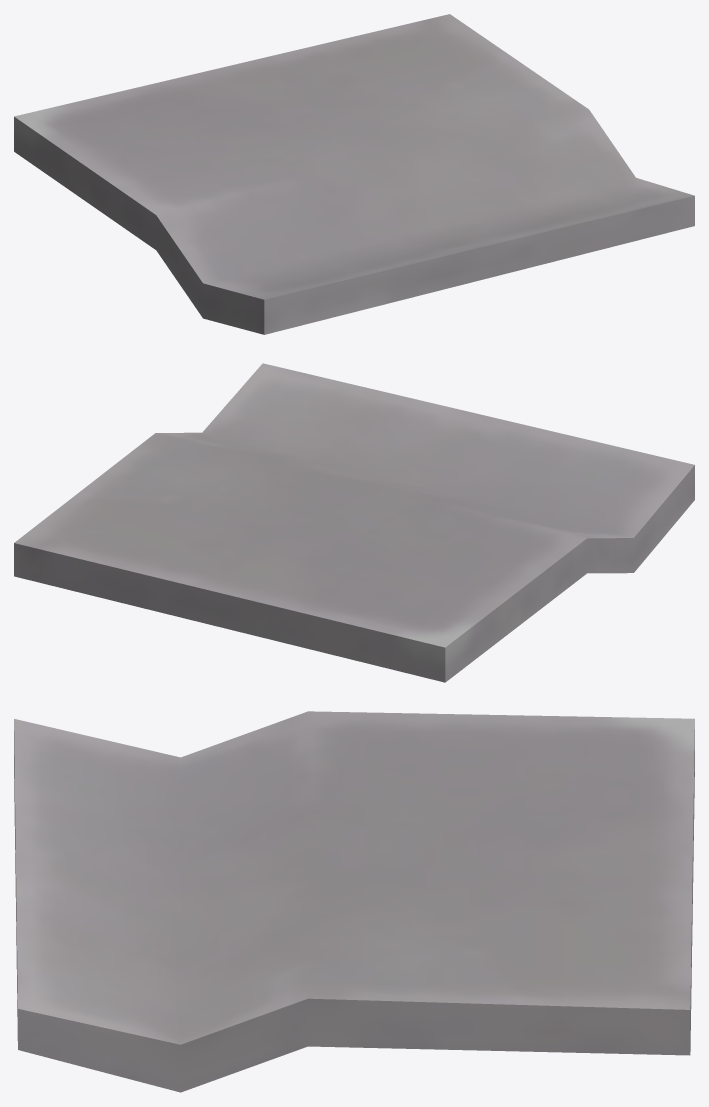
File: Pfb_MetalBoard__2.fbx
3 views of the same model, one above another, from view 1: azimuth 30°, elevation 25°; view 2: azimuth 150°, elevation 25°; view 3: azimuth 270°, elevation 25° (orthographic). The views are drawn at different scales.
Parts seen in each view (by area): view 1: Mat_MetalBoard_01_1; view 2: Mat_MetalBoard_01_1; view 3: Mat_MetalBoard_01_1.
Part boxes in pixels (left/top/right/bottom): Mat_MetalBoard_01_1: left=14, top=14, right=694, bottom=334; Mat_MetalBoard_01_1: left=14, top=363, right=694, bottom=682; Mat_MetalBoard_01_1: left=14, top=711, right=694, bottom=1092.
Size of the model in its own units: 0.5434 by 0.0826 by 0.5427.
Materials: 1 (1 with a texture image).
